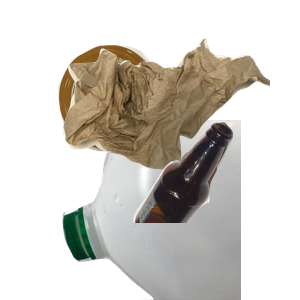glass: (130, 120, 300, 300)
metal: (56, 43, 211, 187)
plastic: (60, 120, 300, 300)
trash: (60, 36, 300, 198)
